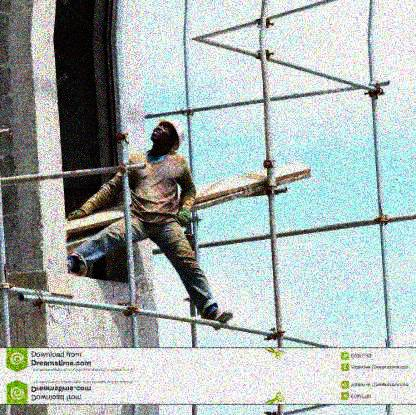helmet: (149, 117, 185, 154)
